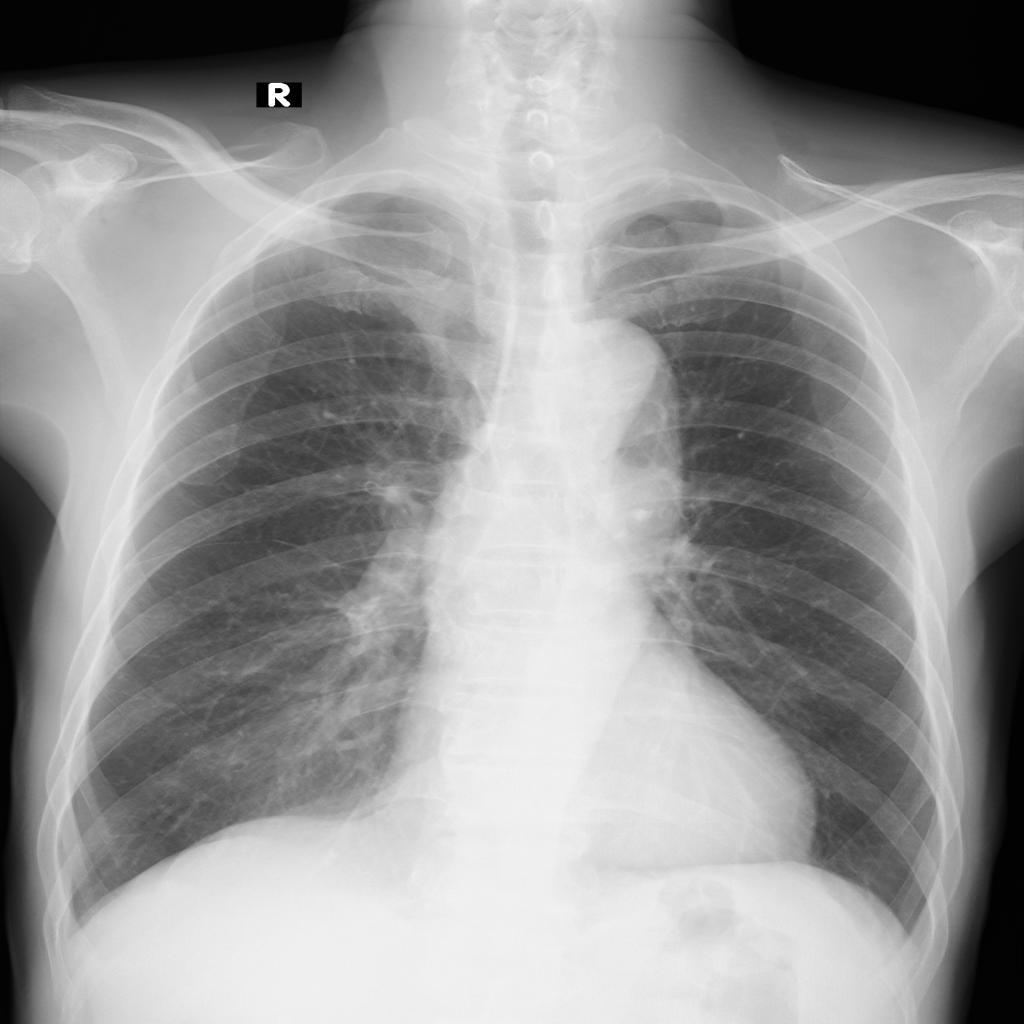Nodule: (184, 374, 199, 396)
